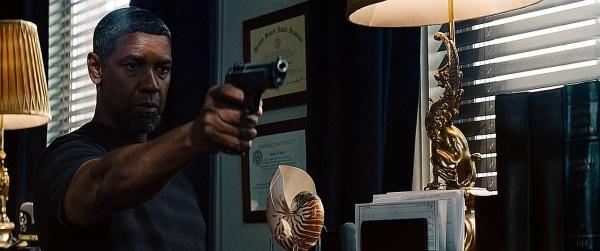Gun: (224, 57, 290, 115)
